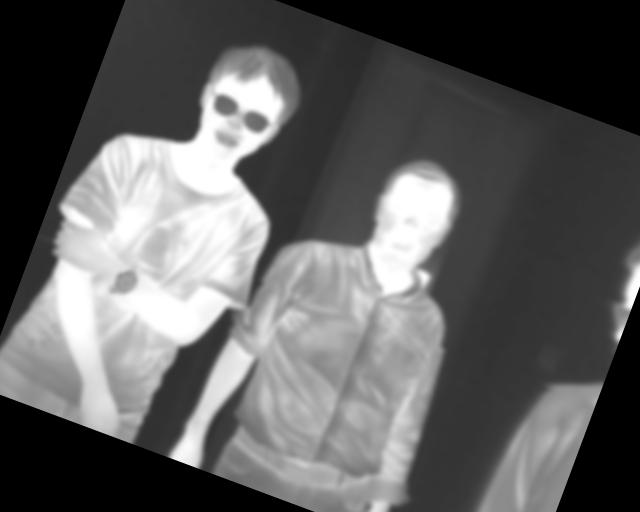face: (180, 29, 312, 180), (357, 146, 472, 283)
